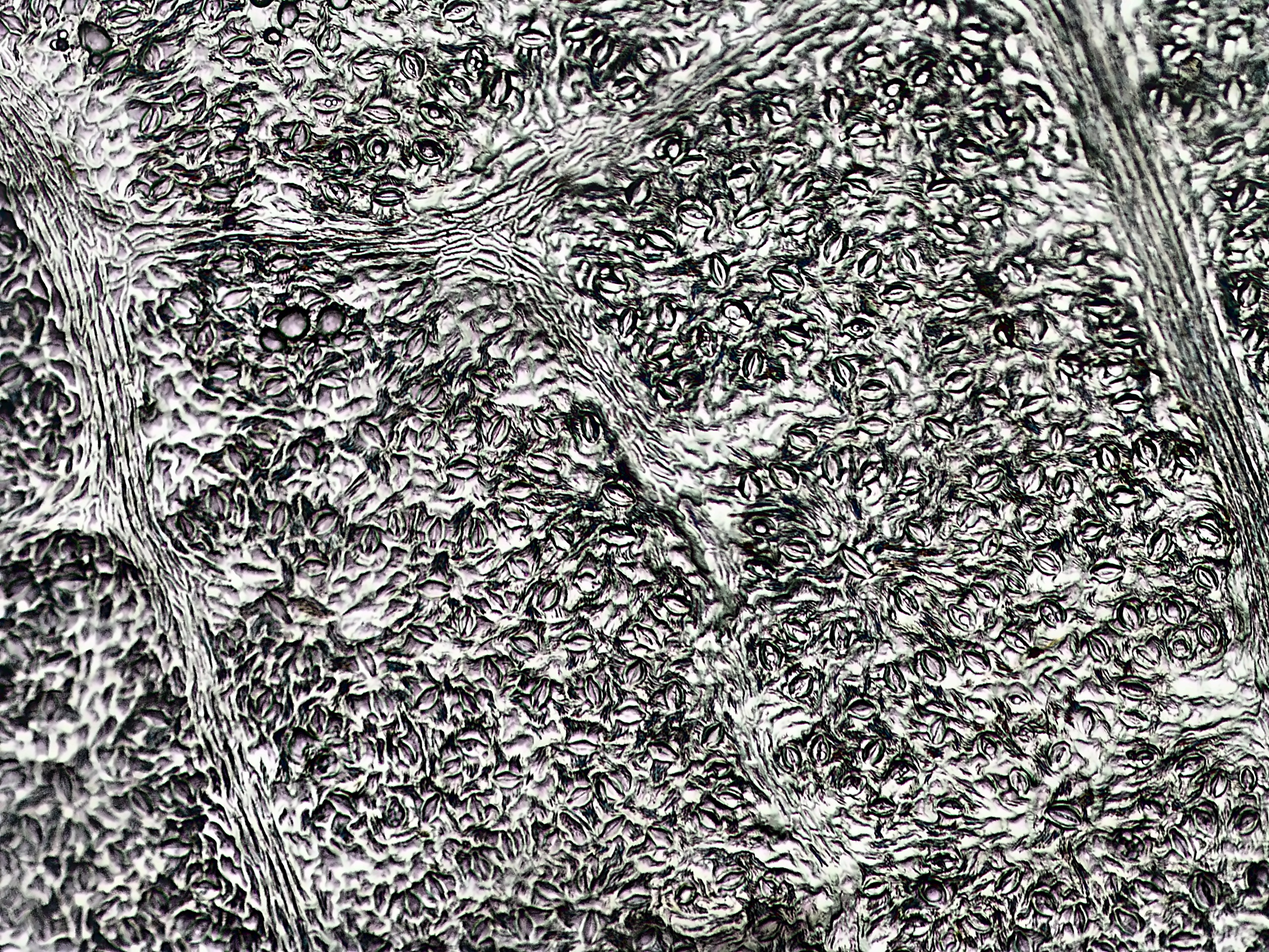stomata: (1206, 133, 1245, 163), (264, 592, 300, 624), (998, 625, 1036, 655), (1222, 73, 1249, 115), (808, 729, 836, 768), (841, 544, 872, 579), (883, 660, 911, 698), (1192, 873, 1223, 907), (1168, 3, 1207, 30), (1168, 925, 1208, 951), (526, 448, 566, 473), (56, 764, 81, 804), (677, 200, 714, 227), (783, 174, 814, 206), (719, 296, 750, 328), (700, 717, 730, 750), (418, 789, 444, 827), (412, 136, 445, 165), (1127, 743, 1161, 771), (849, 119, 887, 144), (1167, 826, 1194, 861), (767, 268, 808, 291), (1114, 675, 1153, 699), (1135, 877, 1171, 903), (769, 462, 800, 492), (918, 875, 949, 905), (945, 603, 977, 632), (839, 314, 877, 338), (854, 410, 892, 434), (1045, 802, 1080, 828), (602, 480, 638, 505), (633, 621, 663, 651), (397, 51, 428, 80), (1089, 562, 1128, 585), (956, 19, 993, 43), (920, 646, 946, 680), (959, 648, 994, 673), (578, 408, 603, 443), (1161, 596, 1191, 625), (1114, 904, 1144, 933), (1003, 258, 1034, 286), (205, 486, 232, 518), (420, 100, 453, 126), (308, 90, 347, 112), (986, 103, 1012, 136), (1097, 441, 1123, 474), (641, 226, 675, 251), (595, 268, 629, 293), (622, 178, 651, 207), (320, 175, 348, 205), (732, 205, 772, 226), (780, 745, 808, 775), (412, 685, 442, 713), (756, 913, 783, 944), (484, 412, 510, 444), (467, 849, 493, 881), (697, 322, 720, 358), (712, 786, 748, 809), (190, 320, 215, 353), (645, 739, 678, 764), (327, 793, 360, 818), (562, 15, 596, 39), (1116, 706, 1150, 730), (619, 887, 653, 911), (176, 85, 205, 113), (1193, 805, 1220, 835), (891, 751, 918, 781), (421, 873, 448, 903), (927, 849, 962, 872), (335, 137, 360, 169), (822, 450, 843, 488), (830, 619, 851, 657), (366, 100, 399, 124), (217, 287, 250, 311), (824, 231, 848, 264), (739, 468, 763, 501), (1136, 436, 1160, 469), (920, 416, 953, 440), (744, 514, 777, 538), (1044, 743, 1072, 771), (310, 507, 337, 536), (952, 54, 981, 81), (787, 673, 814, 702), (1087, 629, 1110, 663), (444, 75, 474, 101), (136, 103, 162, 133), (1229, 180, 1255, 210), (966, 906, 996, 932), (588, 34, 613, 65), (1191, 564, 1222, 589), (623, 657, 648, 688), (372, 186, 407, 208), (708, 251, 730, 286), (1109, 392, 1144, 414), (745, 557, 780, 579), (600, 523, 635, 545), (839, 175, 871, 199), (934, 220, 966, 244), (936, 332, 969, 355), (938, 794, 971, 817), (534, 876, 567, 899), (778, 324, 814, 345), (507, 634, 543, 655), (530, 410, 555, 440), (442, 0, 476, 22), (769, 144, 803, 166), (741, 348, 765, 379), (1165, 39, 1196, 63), (1198, 515, 1222, 546), (1021, 463, 1045, 494), (1205, 767, 1229, 798), (471, 369, 502, 393), (107, 7, 146, 26), (531, 674, 550, 713), (824, 90, 847, 122), (716, 864, 748, 887), (781, 216, 816, 237), (518, 24, 551, 46), (974, 470, 1007, 492), (360, 418, 385, 447), (462, 45, 487, 74), (1008, 765, 1033, 794), (998, 866, 1023, 895), (500, 476, 538, 495), (857, 249, 881, 279), (1149, 85, 1173, 115), (935, 258, 969, 279), (833, 352, 854, 386), (222, 35, 253, 58), (896, 245, 919, 276), (1018, 392, 1050, 414), (446, 457, 478, 479), (580, 910, 602, 942), (489, 67, 508, 104), (200, 184, 239, 202), (303, 287, 329, 314), (174, 128, 209, 148), (1108, 488, 1143, 508), (953, 498, 981, 523), (1031, 889, 1059, 914), (404, 329, 428, 358), (1054, 353, 1083, 377), (1131, 644, 1160, 668), (925, 715, 949, 744), (782, 537, 811, 561), (943, 369, 973, 392), (904, 519, 934, 542), (759, 641, 782, 671), (940, 291, 976, 310), (359, 640, 378, 676), (764, 102, 795, 124), (1174, 754, 1205, 776), (36, 380, 58, 411), (915, 109, 949, 129), (879, 283, 913, 303), (1174, 441, 1200, 467), (1003, 569, 1030, 594), (894, 588, 921, 613), (841, 770, 868, 795), (217, 143, 249, 164), (167, 294, 199, 315), (784, 618, 812, 642), (648, 823, 676, 847), (726, 165, 755, 188), (1147, 531, 1170, 560), (396, 737, 419, 766), (419, 377, 441, 407), (668, 157, 709, 173), (972, 579, 997, 605), (905, 909, 930, 935), (601, 773, 625, 800), (0, 359, 24, 386), (417, 578, 451, 597), (315, 26, 338, 54), (299, 548, 327, 571), (1036, 552, 1064, 575), (266, 253, 298, 273), (301, 341, 323, 370), (860, 378, 889, 400), (788, 428, 817, 450), (1076, 707, 1098, 736), (702, 755, 731, 777), (411, 623, 440, 645), (654, 299, 675, 329), (1053, 471, 1074, 501), (1138, 799, 1168, 820), (613, 702, 643, 723), (484, 654, 502, 689), (418, 423, 442, 449), (100, 49, 127, 72), (609, 78, 638, 99), (846, 697, 875, 718), (513, 910, 534, 939), (955, 140, 987, 159), (864, 875, 888, 900), (1010, 929, 1036, 952), (457, 688, 480, 714), (289, 120, 307, 153), (139, 44, 161, 71), (977, 390, 1010, 408), (863, 737, 885, 764), (402, 892, 424, 919), (492, 769, 523, 788), (1043, 597, 1064, 625), (1119, 601, 1140, 629), (466, 517, 487, 545), (361, 524, 381, 553), (926, 178, 955, 198), (975, 200, 1004, 220), (1086, 293, 1115, 313), (508, 557, 532, 581), (673, 883, 697, 907), (694, 802, 718, 826), (601, 815, 625, 839), (647, 337, 672, 360), (1022, 510, 1047, 533), (1236, 764, 1259, 789), (150, 175, 172, 201), (856, 460, 882, 482), (567, 786, 593, 808), (582, 675, 601, 705), (1240, 278, 1261, 305), (386, 796, 403, 829), (1220, 18, 1248, 38), (566, 632, 594, 652), (664, 680, 684, 708), (1236, 810, 1260, 833), (539, 584, 562, 608), (208, 360, 237, 379), (619, 306, 638, 335), (1047, 422, 1066, 451), (1080, 521, 1105, 543), (1198, 622, 1219, 648), (454, 610, 475, 636), (256, 688, 274, 718), (664, 595, 692, 614), (976, 735, 999, 758), (276, 0, 298, 24), (425, 515, 442, 546), (388, 509, 406, 538), (299, 439, 319, 465), (501, 508, 527, 528), (261, 377, 288, 396), (451, 417, 478, 436), (567, 739, 601, 754), (633, 927, 655, 950), (658, 380, 682, 401), (577, 572, 602, 592), (1070, 904, 1087, 933), (552, 526, 574, 548), (309, 707, 330, 730), (894, 475, 926, 490), (870, 799, 898, 816), (1114, 326, 1140, 344), (227, 446, 247, 469), (981, 529, 1000, 553), (213, 256, 240, 272), (963, 424, 990, 440), (286, 49, 311, 66), (272, 501, 284, 536), (1004, 689, 1028, 706), (1171, 637, 1190, 657), (756, 879, 776, 896), (667, 137, 682, 159), (1093, 939, 1118, 952)
